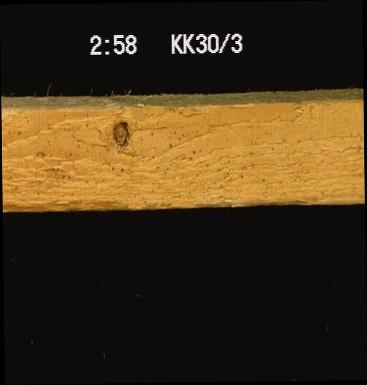wave: (1, 91, 361, 117), (195, 188, 363, 207), (3, 193, 128, 216)
